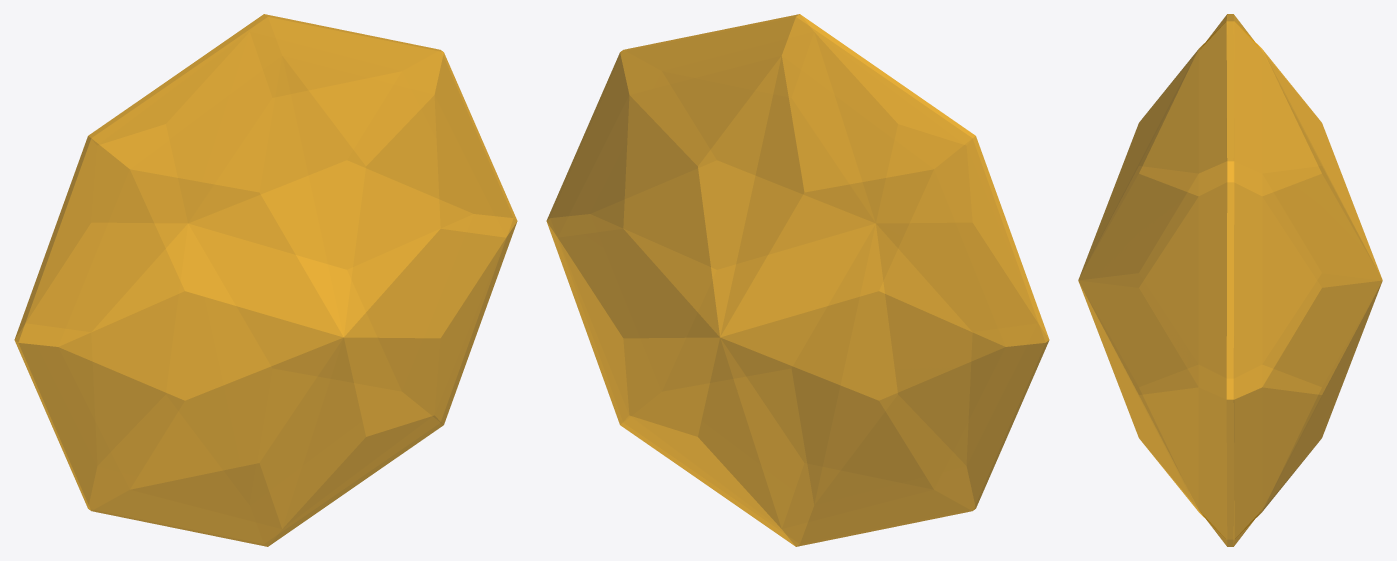
File: rose citrine.glb
3 renders of one model, left to right at view 1: azimuth 30°, elevation 25°; view 2: azimuth 150°, elevation 25°; view 3: azimuth 270°, elevation 25°, orthographic. The views are drawn at different scales.
Parts seen in each view (by area): view 1: Cross Rose; view 2: Cross Rose; view 3: Cross Rose.
Boxes of the visible parts, bbox=[...] form: Cross Rose: bbox=[14, 14, 517, 546]; Cross Rose: bbox=[546, 14, 1049, 546]; Cross Rose: bbox=[1078, 14, 1382, 546].
Bounding box in the file's own units: 1.74 × 1.76 × 0.9396.
